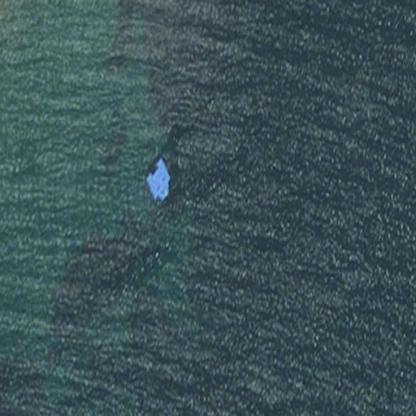ship: (144, 0, 170, 38)
